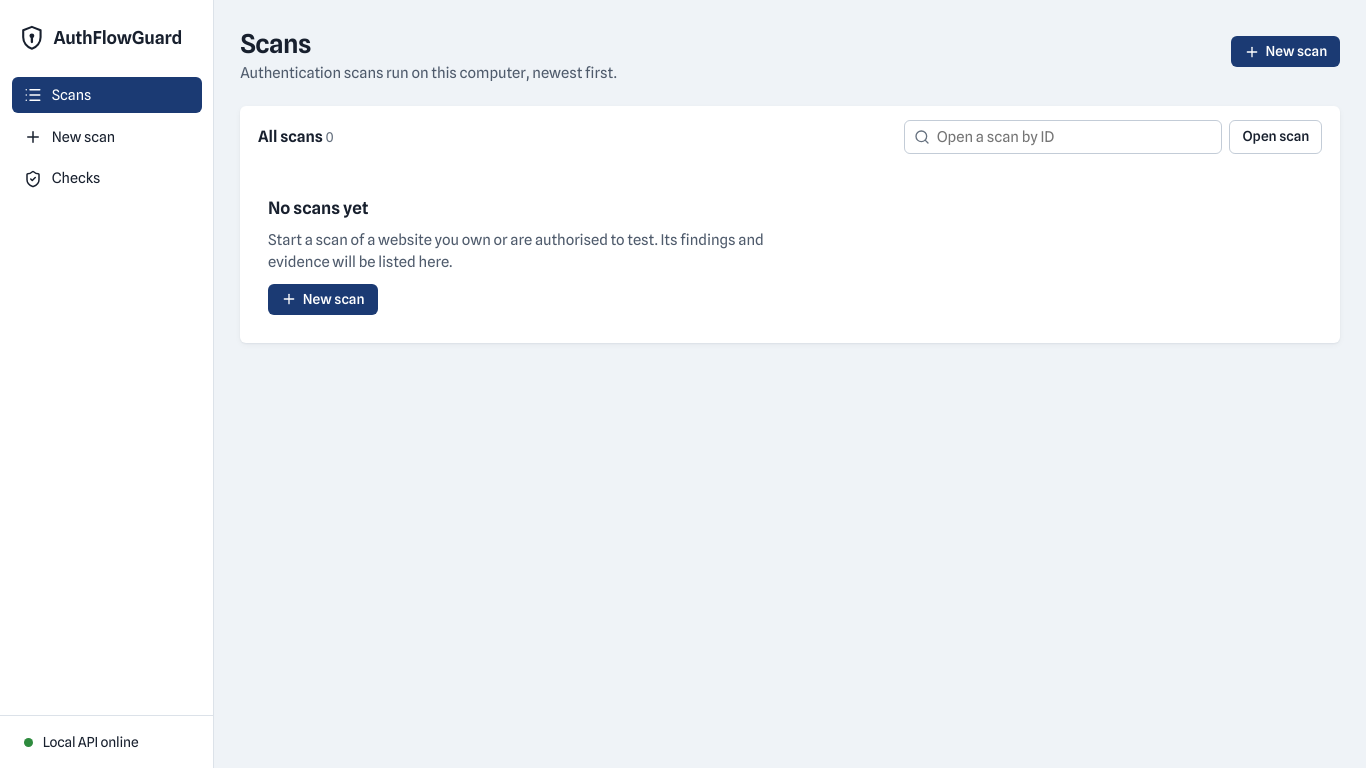
Scenario: setup workflow › the sidebar moves between the scan list and a new scan
Expected: the heading "Scans" is shown, x1=240 y1=28 x2=311 y2=59
Expected: the heading "No scans yet" is shown, x1=268 y1=196 x2=368 y2=220
Click the button "New scan" below "AuthFlowGuard" at (107, 137), box x1=12 y1=119 x2=202 y2=155
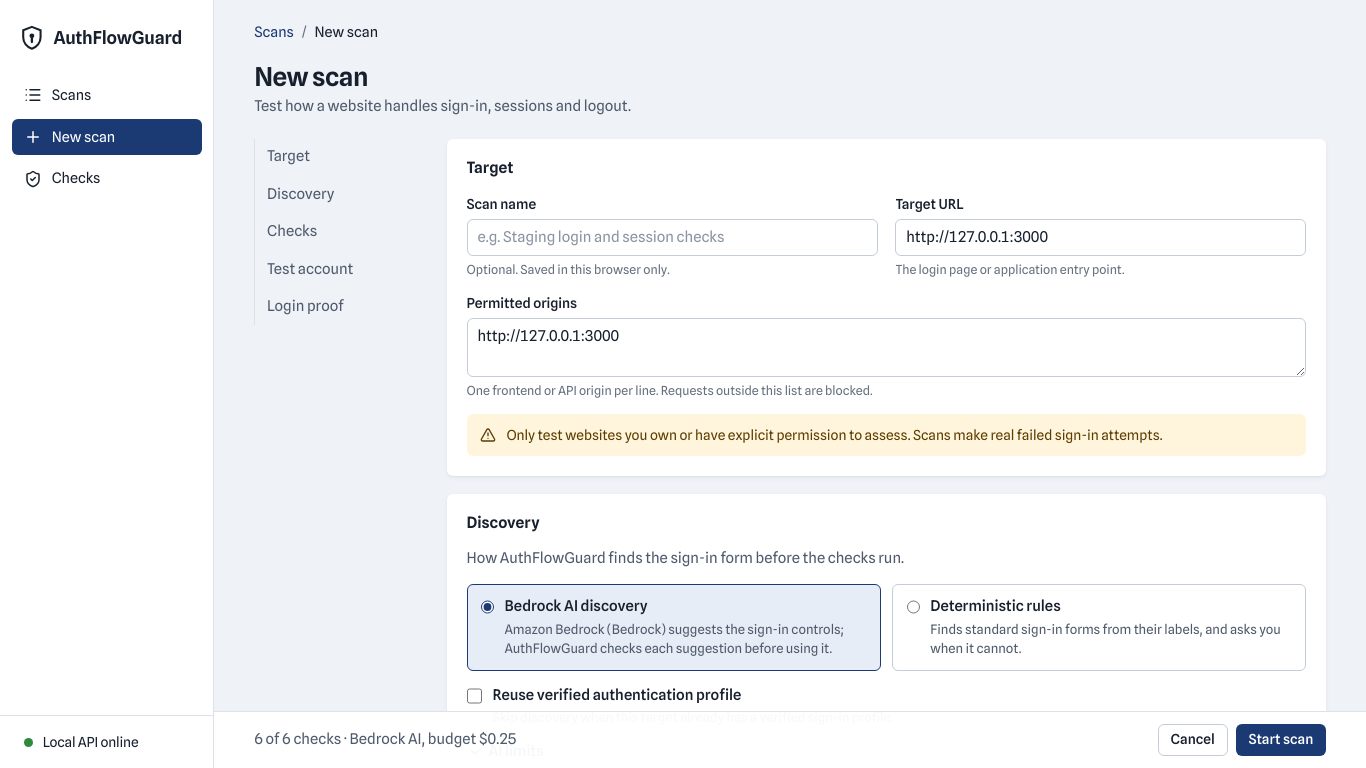
Expected: the heading "New scan" is shown, x1=254 y1=61 x2=368 y2=92
Click the button "Scans" at (107, 95), box x1=12 y1=77 x2=202 y2=113
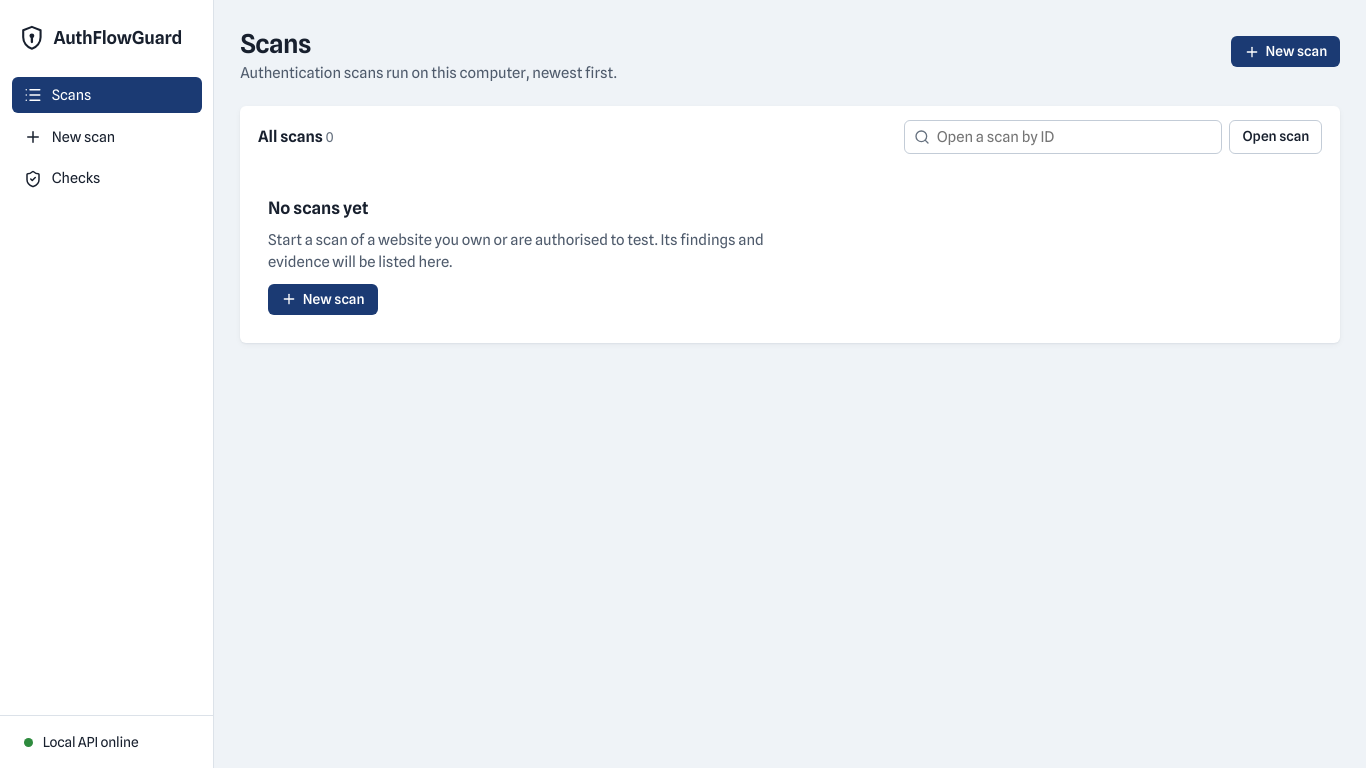
Expected: the heading "Scans" is shown, x1=240 y1=28 x2=311 y2=59
